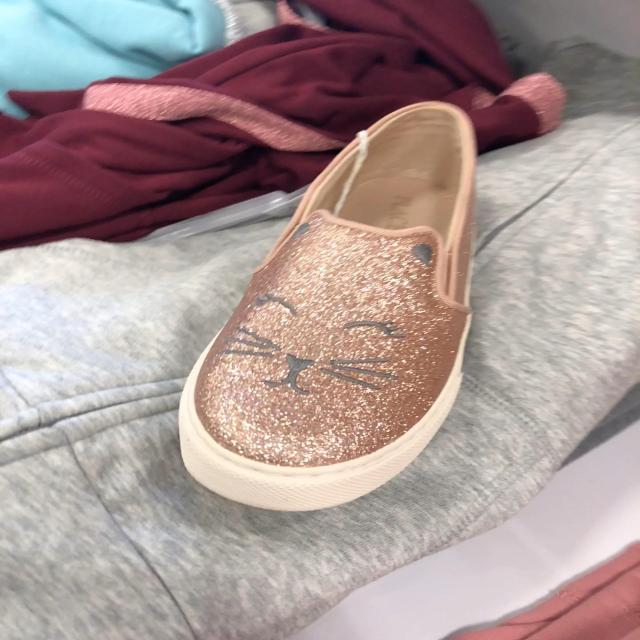shoe: (177, 101, 479, 514)
